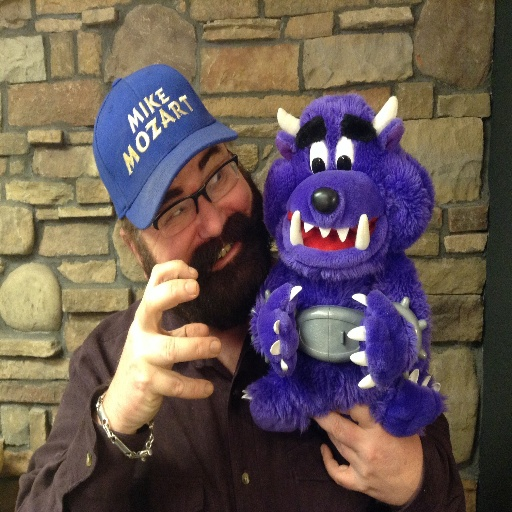hand: (97, 260, 202, 460), (312, 401, 426, 508)
